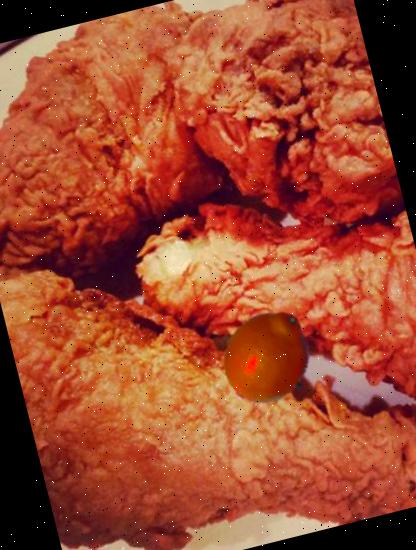Tangelo: (210, 299, 330, 418)
